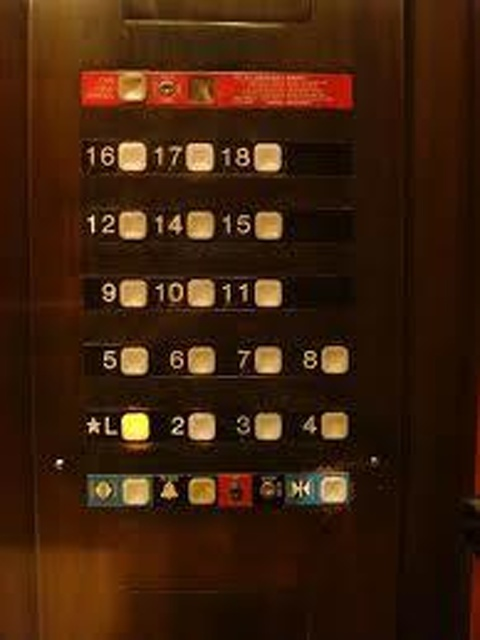10: (152, 276, 220, 312)
11: (219, 276, 286, 310)
12: (80, 206, 151, 243)
14: (151, 205, 218, 242)
15: (219, 208, 287, 243)
16: (77, 136, 150, 174)
17: (150, 136, 219, 178)
18: (219, 137, 288, 177)
2: (160, 409, 218, 445)
3: (222, 409, 283, 444)
4: (287, 409, 351, 442)
5: (87, 344, 153, 380)
6: (157, 342, 220, 379)
7: (230, 343, 285, 379)
8: (292, 342, 359, 378)
9: (86, 276, 150, 311)
alarm: (154, 473, 217, 508)
bt_keyhole: (149, 69, 222, 107)
close: (286, 470, 352, 509)
keyhole: (218, 474, 252, 508), (254, 475, 285, 504)
open: (86, 473, 153, 511)
sL: (83, 408, 153, 447)
text_blur: (78, 69, 151, 107)
